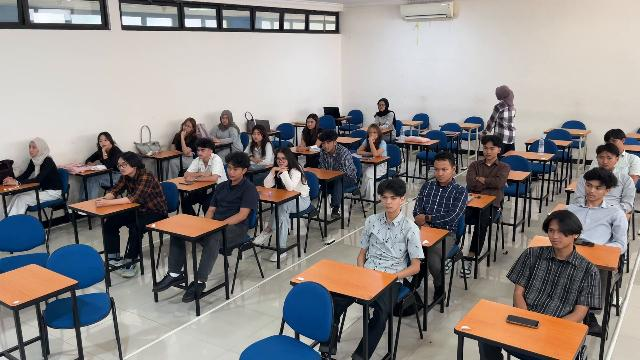fokus: (548, 225, 568, 247), (381, 192, 399, 212), (585, 180, 603, 200), (434, 162, 450, 182), (597, 154, 614, 169), (482, 144, 496, 159), (227, 165, 241, 179), (606, 137, 621, 149), (118, 159, 129, 174), (197, 146, 209, 159), (277, 153, 287, 168), (99, 135, 109, 149), (252, 128, 262, 142), (29, 141, 38, 156), (322, 140, 333, 152), (369, 128, 378, 141), (183, 121, 191, 133), (307, 118, 315, 130)
